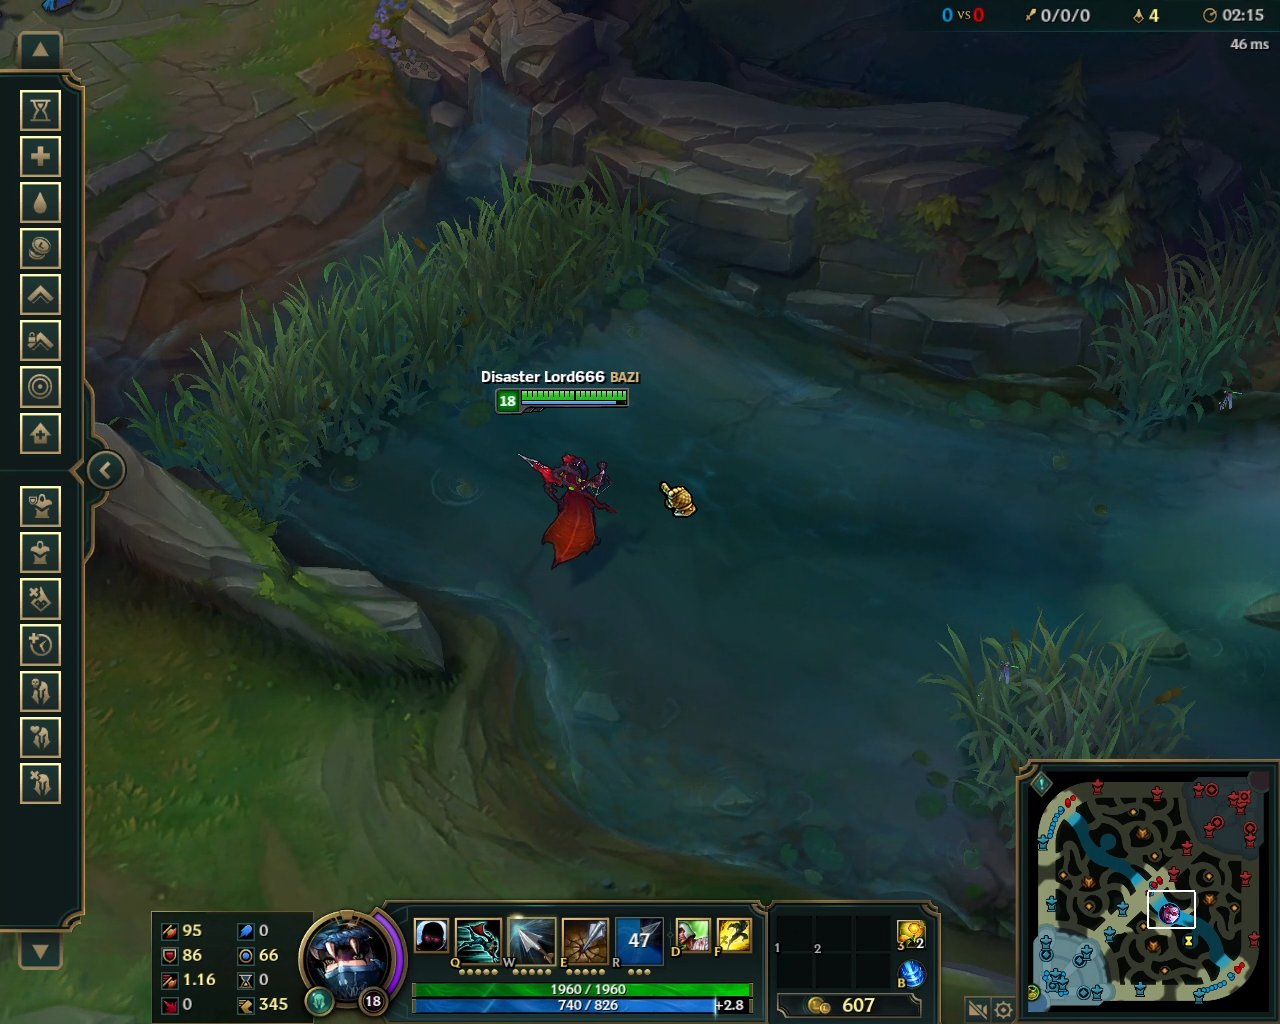Vayne: (514, 448, 618, 575)
